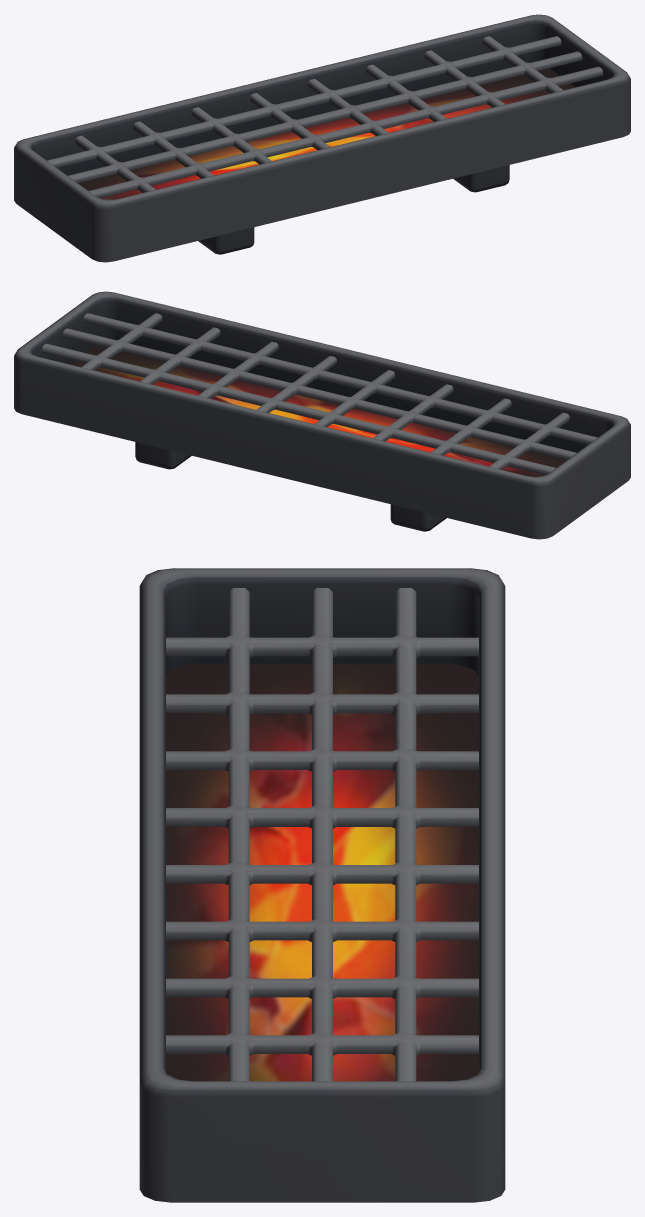
Rendered from grill.fbx.
The picture shows the model from 3 angles, top to bottom: view 1: azimuth 30°, elevation 25°; view 2: azimuth 150°, elevation 25°; view 3: azimuth 270°, elevation 25°; orthographic projection. The views are drawn at different scales.
Parts seen in each view (by area): view 1: grill; view 2: grill; view 3: grill.
Part boxes in pixels (x1,y1,x2,y2): grill: (14, 14, 630, 262); grill: (14, 291, 630, 539); grill: (139, 568, 505, 1202).
Size of the model in its own units: 18.8 by 2.77 by 5.55.
